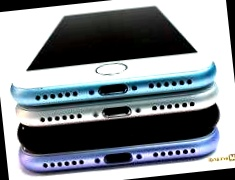iphone: (18, 8, 224, 98)
